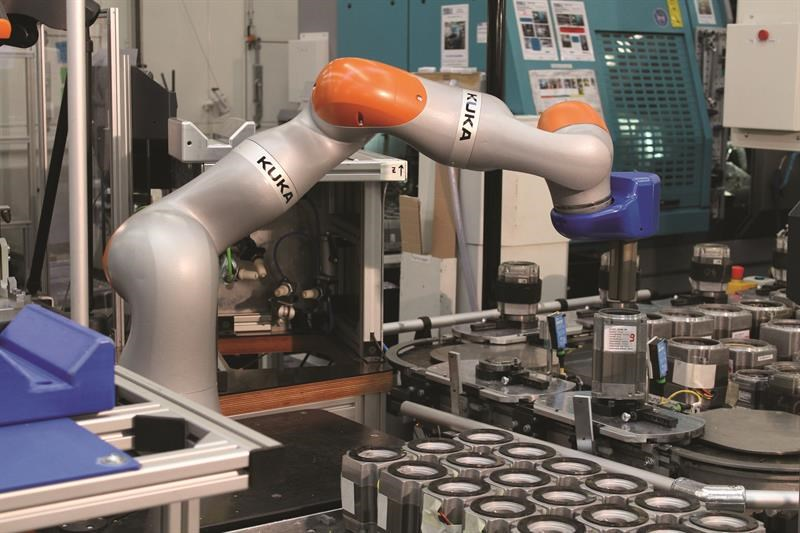robot: (103, 56, 661, 416)
